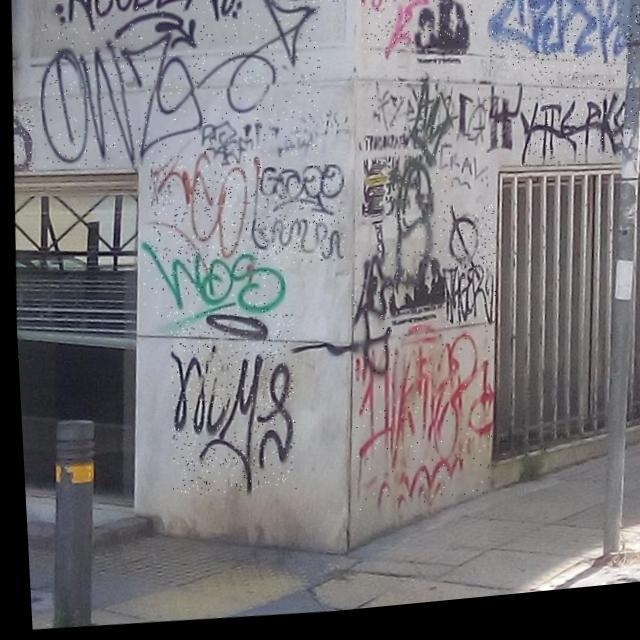-: (34, 0, 326, 180), (344, 326, 497, 522), (160, 312, 296, 504), (384, 80, 457, 290), (367, 80, 523, 172), (515, 68, 640, 182), (137, 234, 283, 326), (484, 0, 640, 85), (53, 0, 261, 62), (144, 158, 262, 266), (246, 168, 345, 274), (357, 0, 478, 68), (434, 211, 496, 335), (344, 258, 392, 334), (9, 100, 36, 173), (263, 0, 346, 14)
